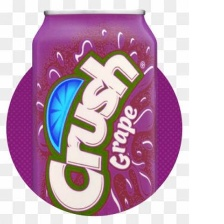can: (28, 8, 158, 217)
